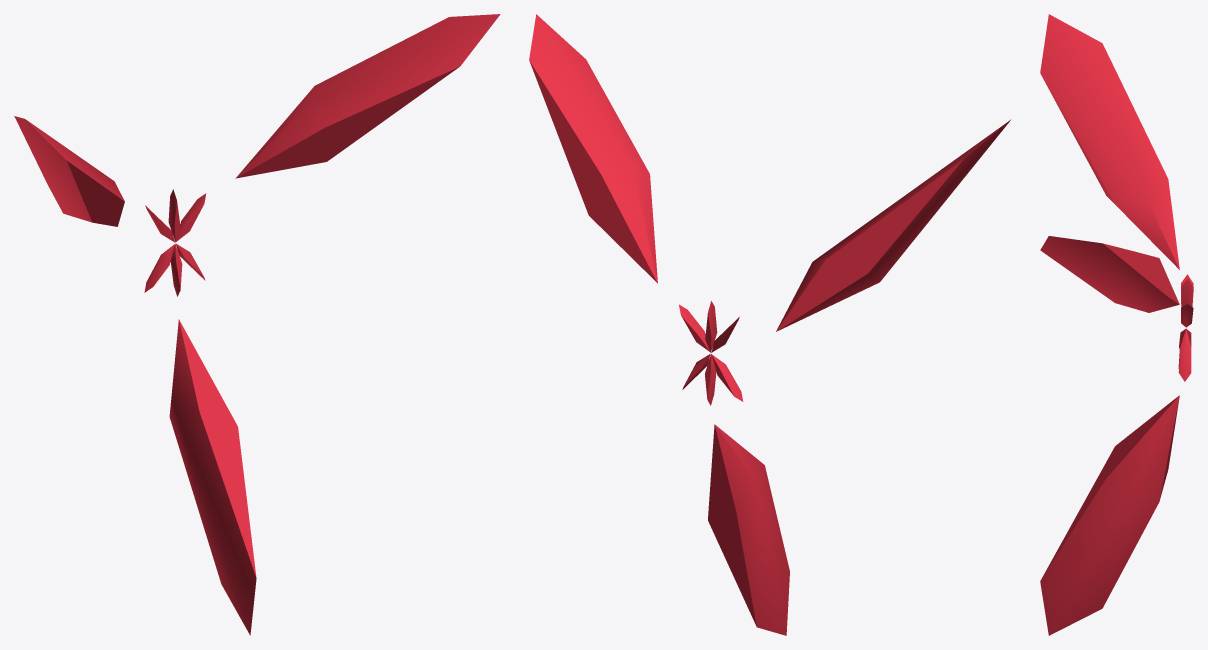
File: Glass Chaser 1.fbx
3 views of the same model, side by side, from view 1: azimuth 30°, elevation 25°; view 2: azimuth 150°, elevation 25°; view 3: azimuth 270°, elevation 25° (orthographic). The views are drawn at different scales.
Parts seen in each view (by area): view 1: Cube.002, Cube.004, Cube.003, Cube.001; view 2: Cube.002, Cube.004, Cube.003, Cube.001; view 3: Cube.003, Cube.004, Cube.002, Cube.001.
Part boxes in pixels (<box>): Cube.002: <box>235,14,500,178</box>; Cube.004: <box>169,319,256,635</box>; Cube.003: <box>14,116,124,226</box>; Cube.001: <box>144,189,206,296</box>; Cube.002: <box>529,14,657,283</box>; Cube.004: <box>708,424,789,635</box>; Cube.003: <box>776,119,1011,331</box>; Cube.001: <box>679,301,743,405</box>; Cube.003: <box>1040,14,1179,269</box>; Cube.004: <box>1040,395,1179,635</box>; Cube.002: <box>1040,236,1179,312</box>; Cube.001: <box>1178,274,1193,381</box>.
Bounding box in the file's own units: 2378 × 2733 × 730.
